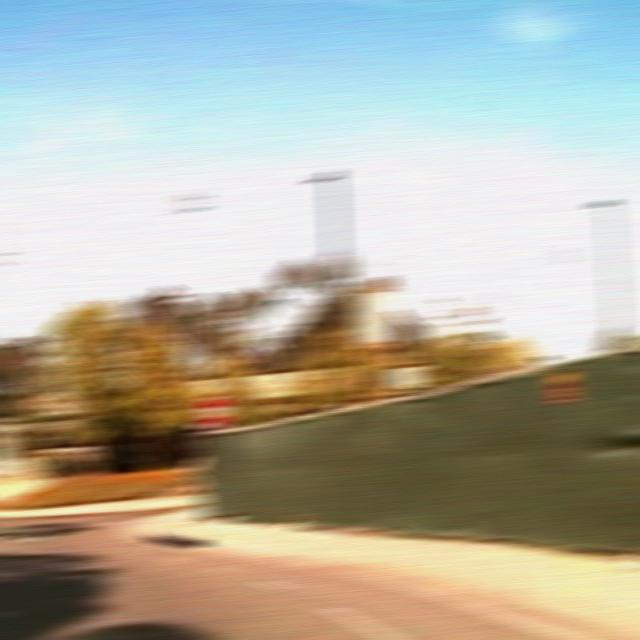stop_sign: (198, 393, 231, 428)
